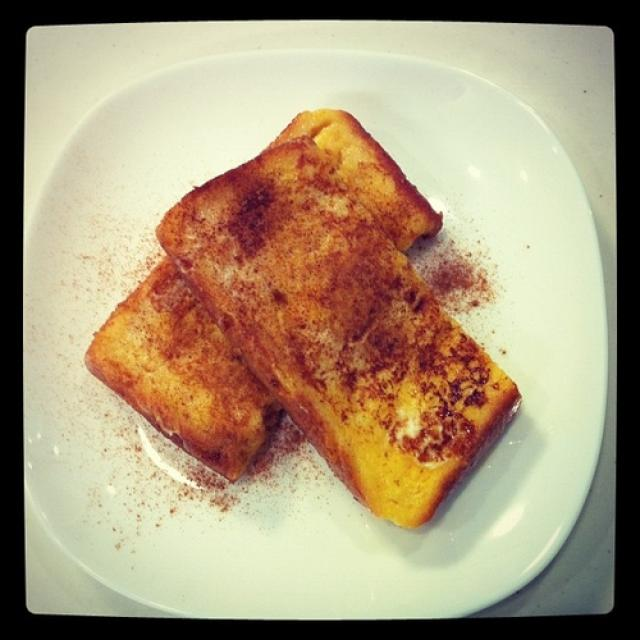面包点心: (55, 44, 588, 602)
